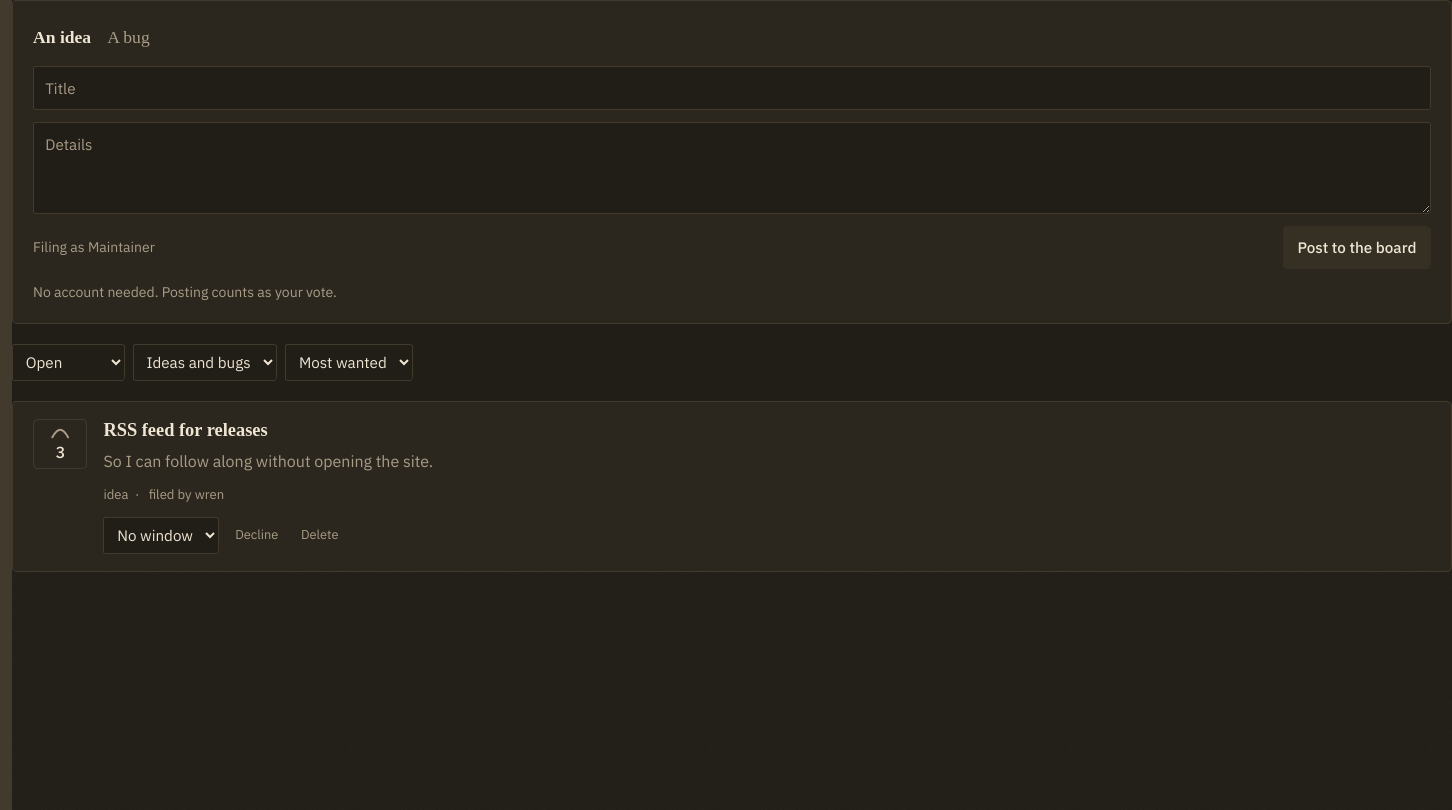
Test: BoardPanel › gives the maintainer the triage controls
expect the element with class "triage" is shown: met, box [103,517,345,554]
Select "0.2" in the dropdown named "Merge window" at (161, 535), box [103,517,219,554]
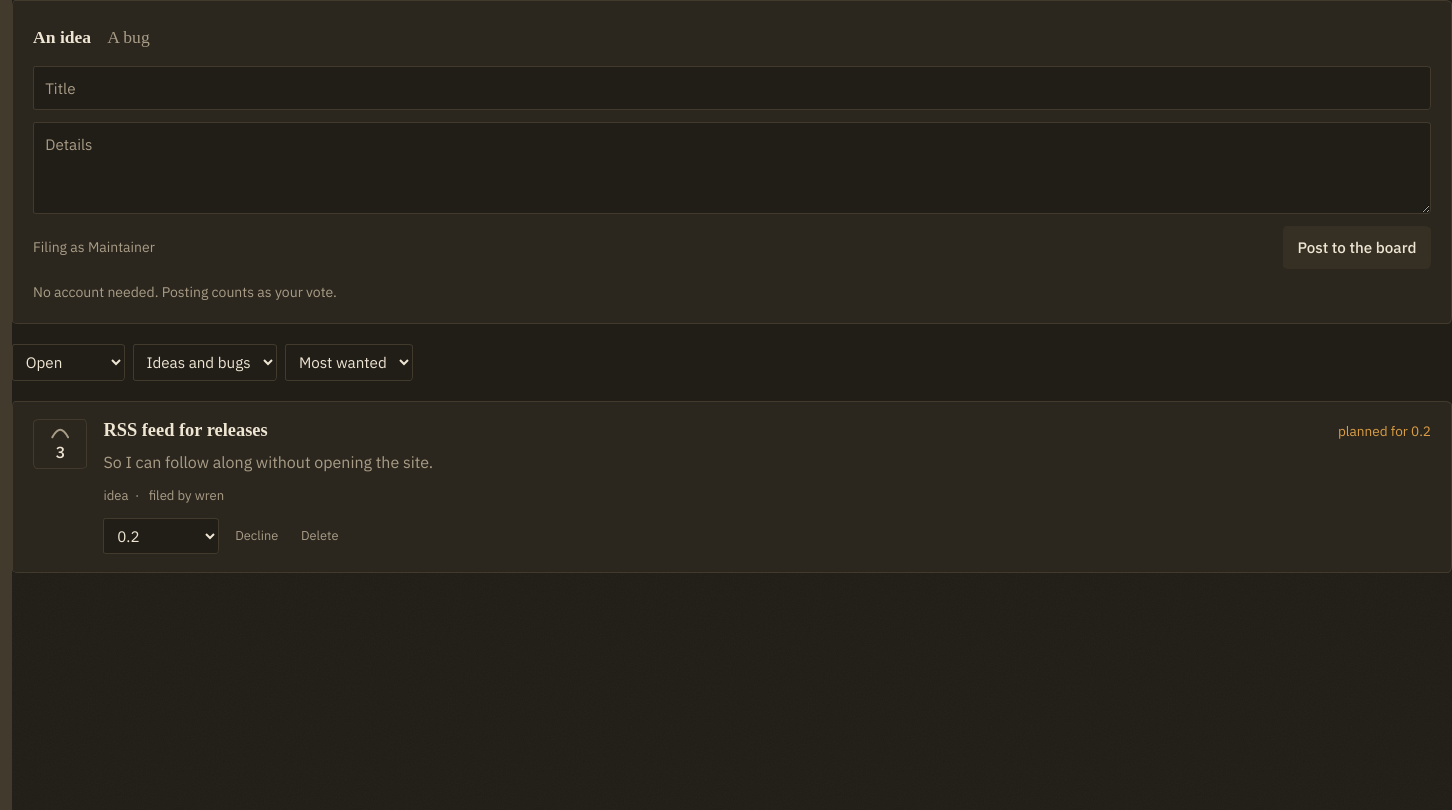
expect the text "planned" is shown: met, box [1338,422,1431,440]
